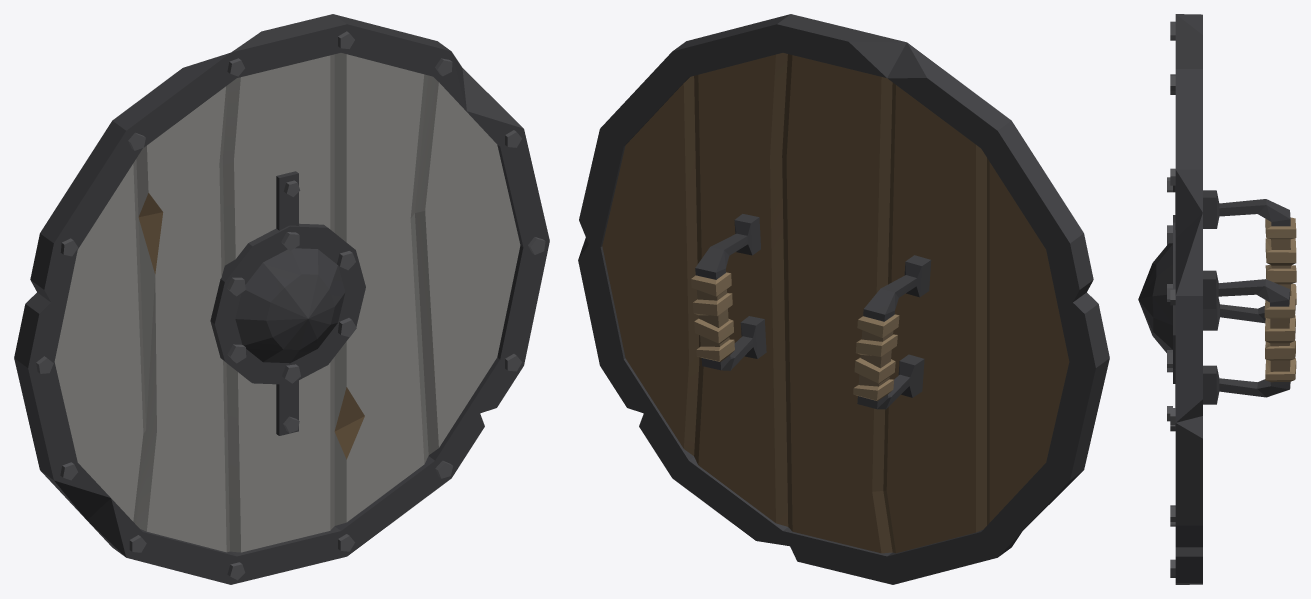
The model's file is Escudo_04.glb.
The picture shows the model from 3 angles, left to right: view 1: azimuth 30°, elevation 25°; view 2: azimuth 150°, elevation 25°; view 3: azimuth 270°, elevation 25°; orthographic projection. The views are drawn at different scales.
Parts seen in each view (by area): view 1: SM_Wep_Shield_03; view 2: SM_Wep_Shield_03; view 3: SM_Wep_Shield_03.
Part boxes in pixels (x1,y1,x2,y2): SM_Wep_Shield_03: (14, 14, 549, 584); SM_Wep_Shield_03: (578, 14, 1109, 584); SM_Wep_Shield_03: (1138, 14, 1296, 584).
Bounding box in the file's own units: 0.7578 × 0.7388 × 0.2058.
Materials: 1 (1 with a texture image).
